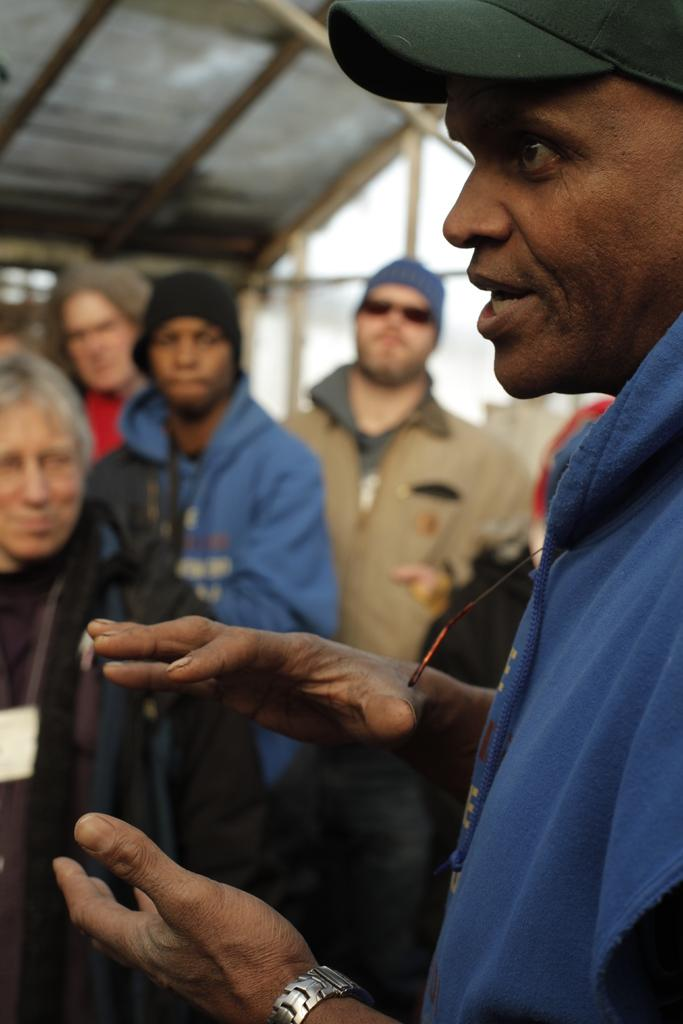Hat: (327, 0, 682, 106)
